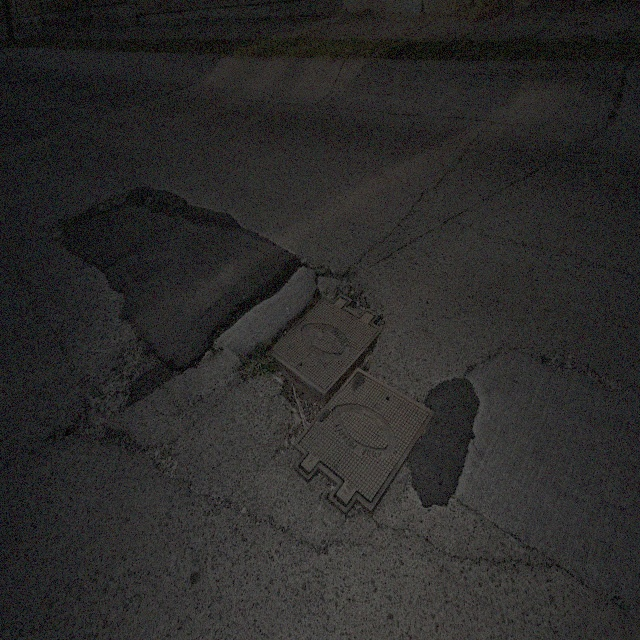pothole: (68, 337, 142, 443), (238, 346, 324, 430)
